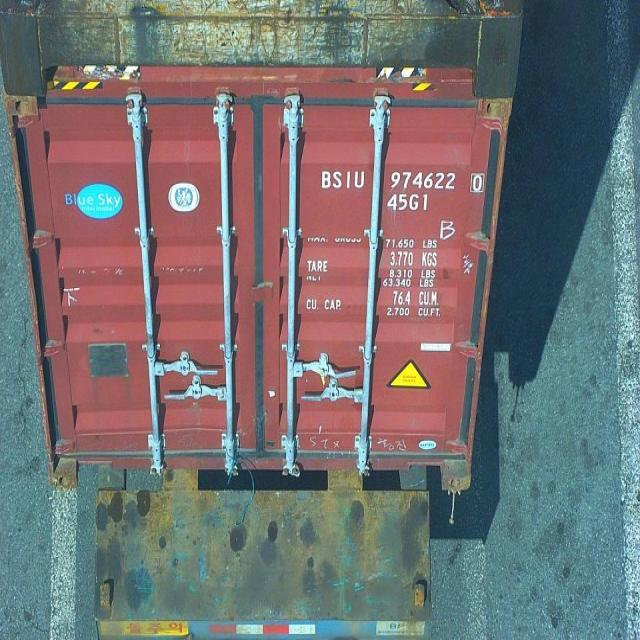ISO: (387, 194, 429, 212)
container_number: (323, 168, 487, 191)
